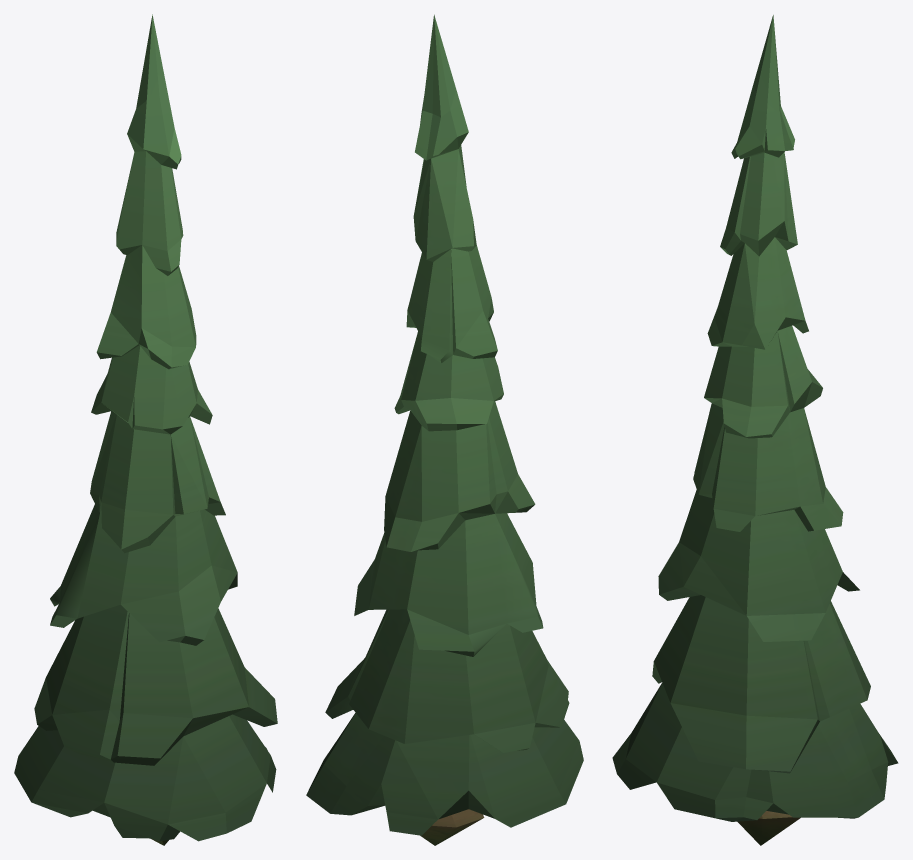
Rendered from TER_TreePineTall.glb.
3 renders of one model, left to right at view 1: azimuth 30°, elevation 25°; view 2: azimuth 150°, elevation 25°; view 3: azimuth 270°, elevation 25°, orthographic.
Parts seen in each view (by area): view 1: TER_TreePineTall; view 2: TER_TreePineTall; view 3: TER_TreePineTall.
Part boxes in pixels (x1=…): TER_TreePineTall: x1=14, y1=14, x2=277, y2=845; TER_TreePineTall: x1=306, y1=14, x2=583, y2=845; TER_TreePineTall: x1=612, y1=15, x2=898, y2=845.
Bounding box in the file's own units: 7.32 × 24.68 × 7.72.
Materials: 1 (1 with a texture image).
